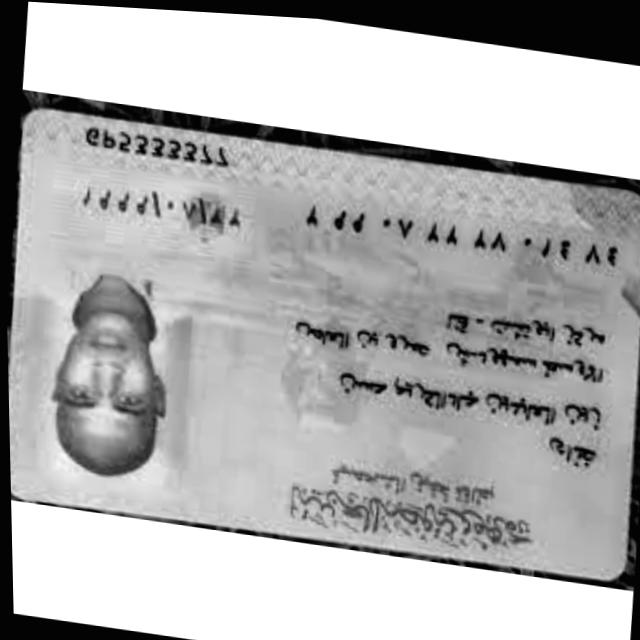id_card: (8, 109, 640, 579)
